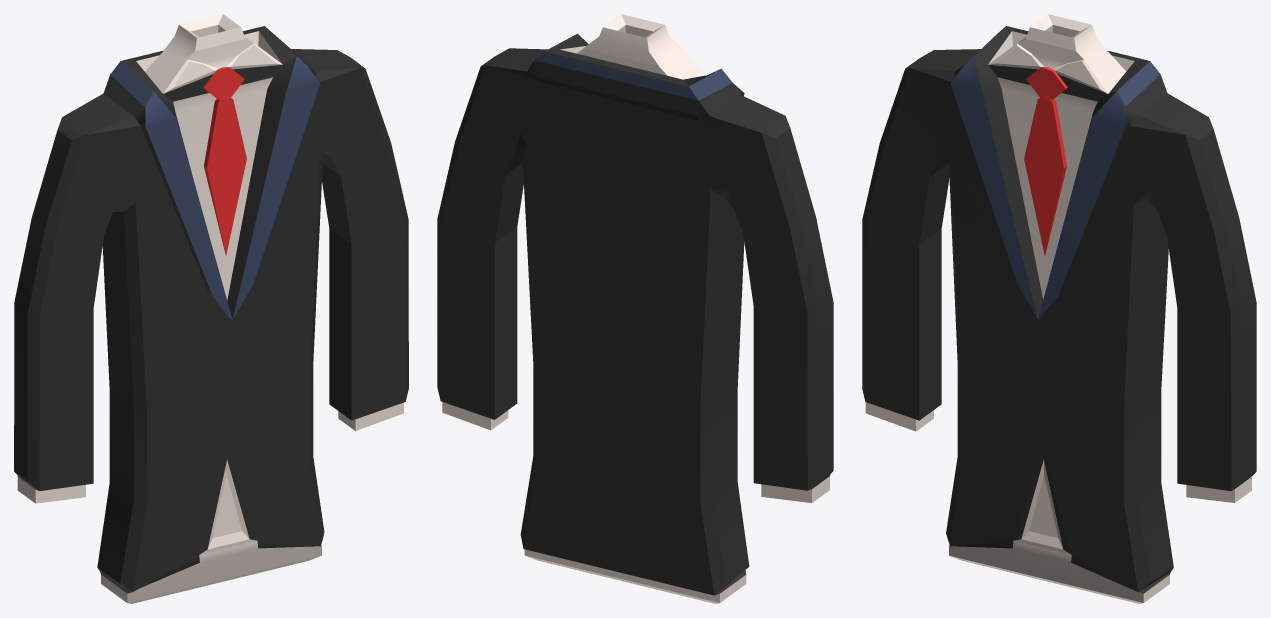
File: Suit_Tuxedo_With_Tie.fbx
The picture shows the model from 3 angles, left to right: view 1: azimuth 30°, elevation 25°; view 2: azimuth 150°, elevation 25°; view 3: azimuth 330°, elevation 25°; orthographic projection.
Parts seen in each view (by area): view 1: Suit2; view 2: Suit2; view 3: Suit2.
Boxes of the visible parts, x1,y1,x2,y2 form: Suit2: [14, 14, 408, 603]; Suit2: [437, 14, 833, 603]; Suit2: [862, 14, 1256, 603].
Size of the model in its own units: 47.37 by 65.17 by 8.73.
